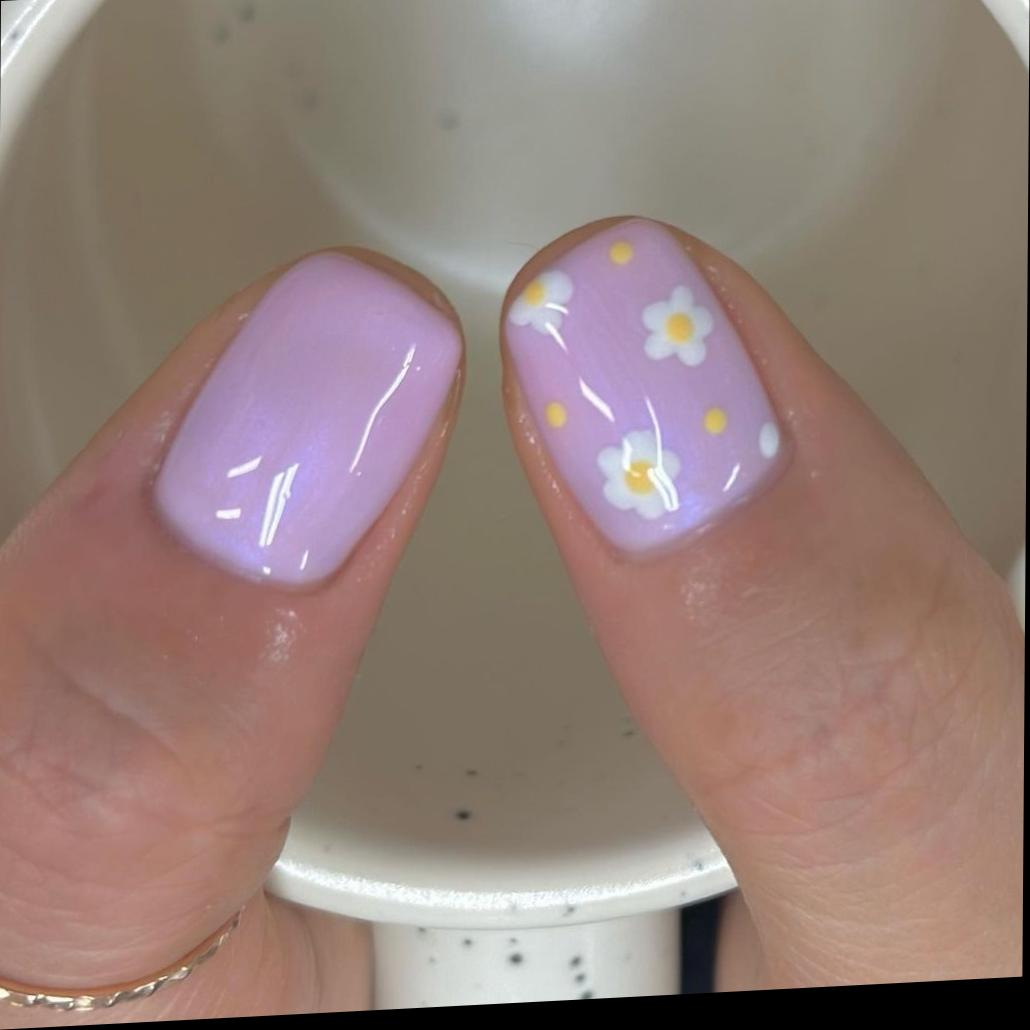nail: (147, 240, 466, 603), (495, 206, 793, 570)
